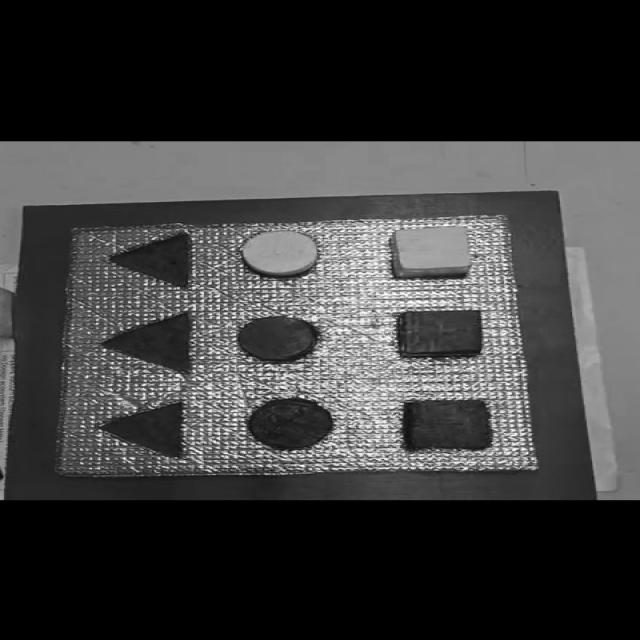bcircle: (246, 398, 332, 449)
bcube: (404, 399, 494, 450)
mttriangle: (100, 312, 195, 374), (96, 400, 188, 457), (106, 230, 195, 288)
rcircle: (238, 316, 316, 361)
rcube: (398, 310, 484, 358)
wb: (55, 214, 544, 481)
ycircle: (241, 230, 318, 276)
ycube: (391, 224, 472, 266), (0, 286, 15, 338)
